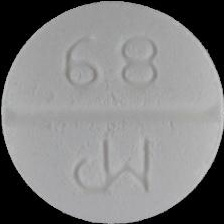42291-619: (0, 0, 224, 224)
